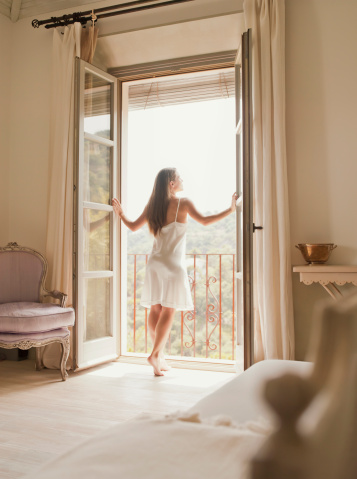em pe: (112, 149, 227, 378)
